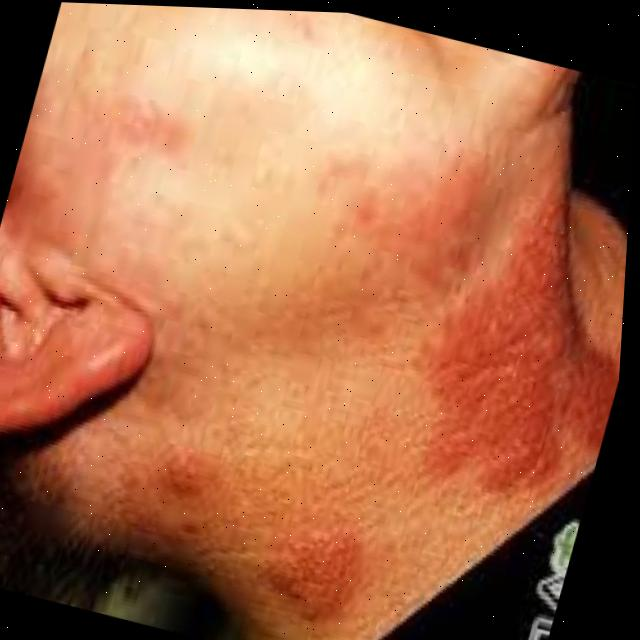Shingles: (408, 197, 629, 516), (267, 517, 369, 625)
